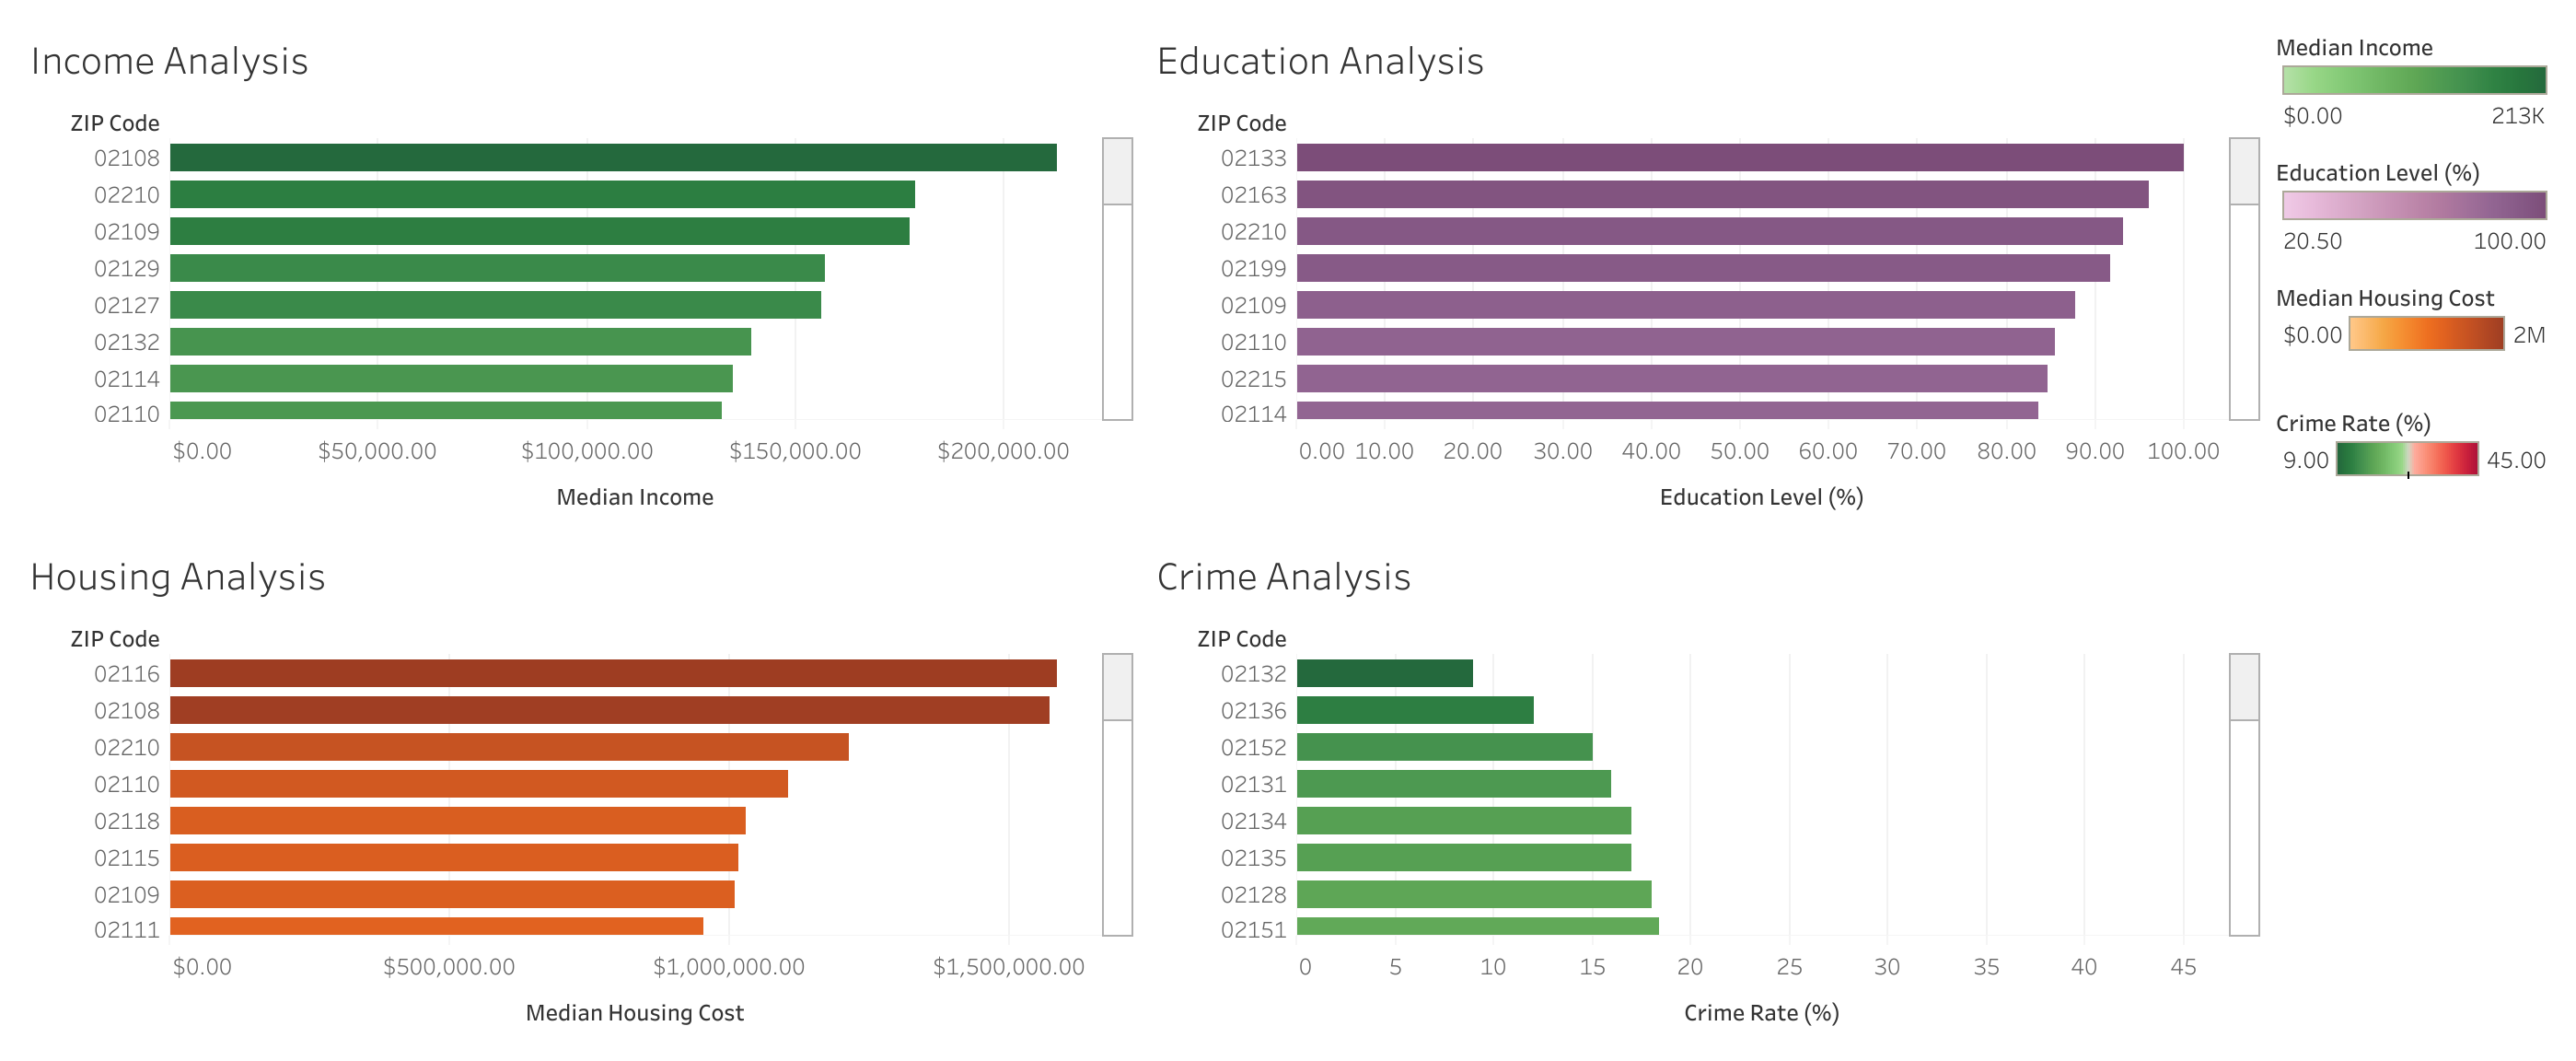

Layout of this report page (visuals, bound fields, positions):
{"tool":"tableau","page":{"name":"Detailed Analysis","canvas":[1000,1000],"units":"permille","ordinal":0},"visuals":[{"type":"worksheet","title":"Income Analysis","mark":"Automatic","rows":["ZIP Code"],"cols":["Median Income"],"box":[6.4,12.1,430.1,487.9]},{"type":"worksheet","title":"Education Analysis","mark":"Automatic","rows":["ZIP Code"],"cols":["Education Level (%)"],"box":[436.4,12.1,430.1,487.9]},{"type":"legend","title":"Income Analysis","param":"[federated.1c15vzl09xrpxk1874k2z1azpoxg].[sum:Median Income:qk]","box":[866.6,12.1,127.1,98.2]},{"type":"legend","title":"Education Analysis","param":"[federated.1c15vzl09xrpxk1874k2z1azpoxg].[sum:Education Level (%):qk]","box":[866.6,110.3,127.1,98.2]},{"type":"legend","title":"Housing Analysis","param":"[federated.1c15vzl09xrpxk1874k2z1azpoxg].[sum:Median Housing Cost:qk]","box":[866.6,208.4,127.1,98.2]},{"type":"legend","title":"Crime Analysis","param":"[federated.1c15vzl09xrpxk1874k2z1azpoxg].[sum:Crime Rate (%):qk]","box":[866.6,306.6,127.1,98.2]},{"type":"worksheet","title":"Housing Analysis","mark":"Automatic","rows":["ZIP Code"],"cols":["Median Housing Cost"],"box":[6.4,500,430.1,487.9]},{"type":"worksheet","title":"Crime Analysis","mark":"Automatic","rows":["ZIP Code"],"cols":["Crime Rate (%)"],"box":[436.4,500,430.1,487.9]}]}

Visuals, with their boxes on the dashboard's canvas, which has no fixed pixel size, in thousandths of its width and height (x1, y1, x2, y2). These are canvas units, not pixel positions in the 2576x1061 screenshot, which may show the page scaled, cropped or inside an application window:
"Income Analysis" worksheet: 6/12/436/500
"Education Analysis" worksheet: 436/12/866/500
"Income Analysis" legend: 867/12/994/110
"Education Analysis" legend: 867/110/994/208
"Housing Analysis" legend: 867/208/994/307
"Crime Analysis" legend: 867/307/994/405
"Housing Analysis" worksheet: 6/500/436/988
"Crime Analysis" worksheet: 436/500/866/988
